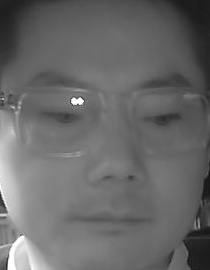eye: (41, 108, 81, 130), (143, 107, 181, 129)
glass: (14, 84, 103, 156), (128, 85, 207, 153)
mouth: (65, 202, 151, 245)
